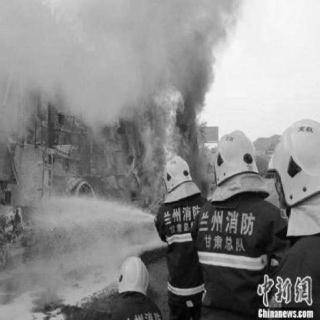Fire: (6, 164, 72, 264)
